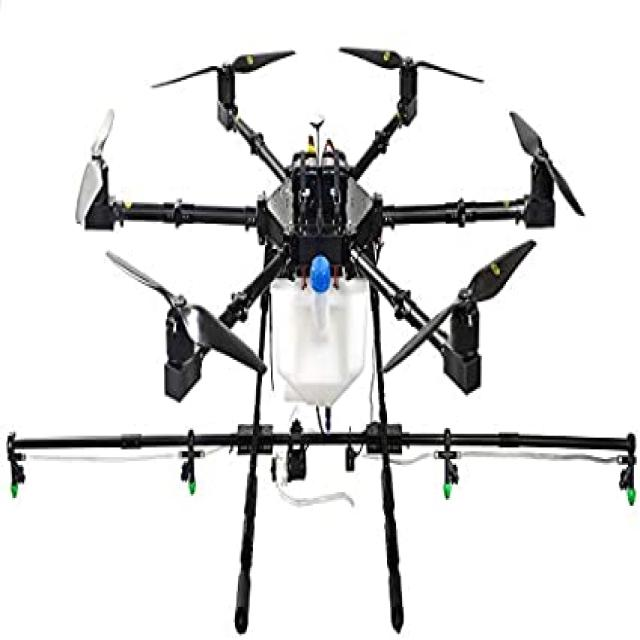drone: (9, 3, 640, 598)
